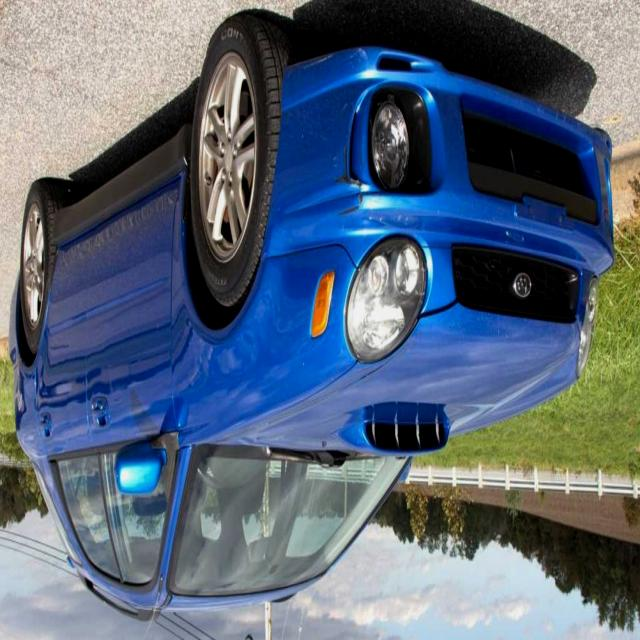blue: (0, 0, 609, 636)
